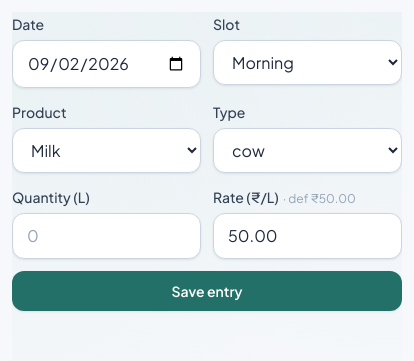
Test: DeliveryEntryForm (Requirements 4.6, 4.7, 4.8) › shows a quantity validation message on empty quantity (Requirements 4.6)
# Leave quantity empty and submit.
Click the button "Save entry" at coordinates (207, 291), box [12,271,402,311]
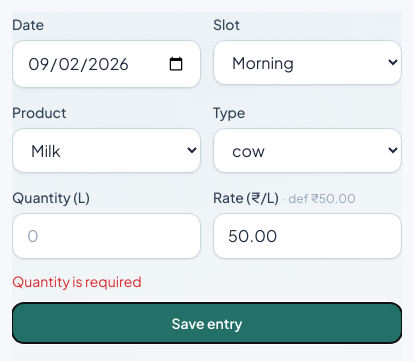
Expected: the text "Quantity is required" is shown, [12,272,142,290]
